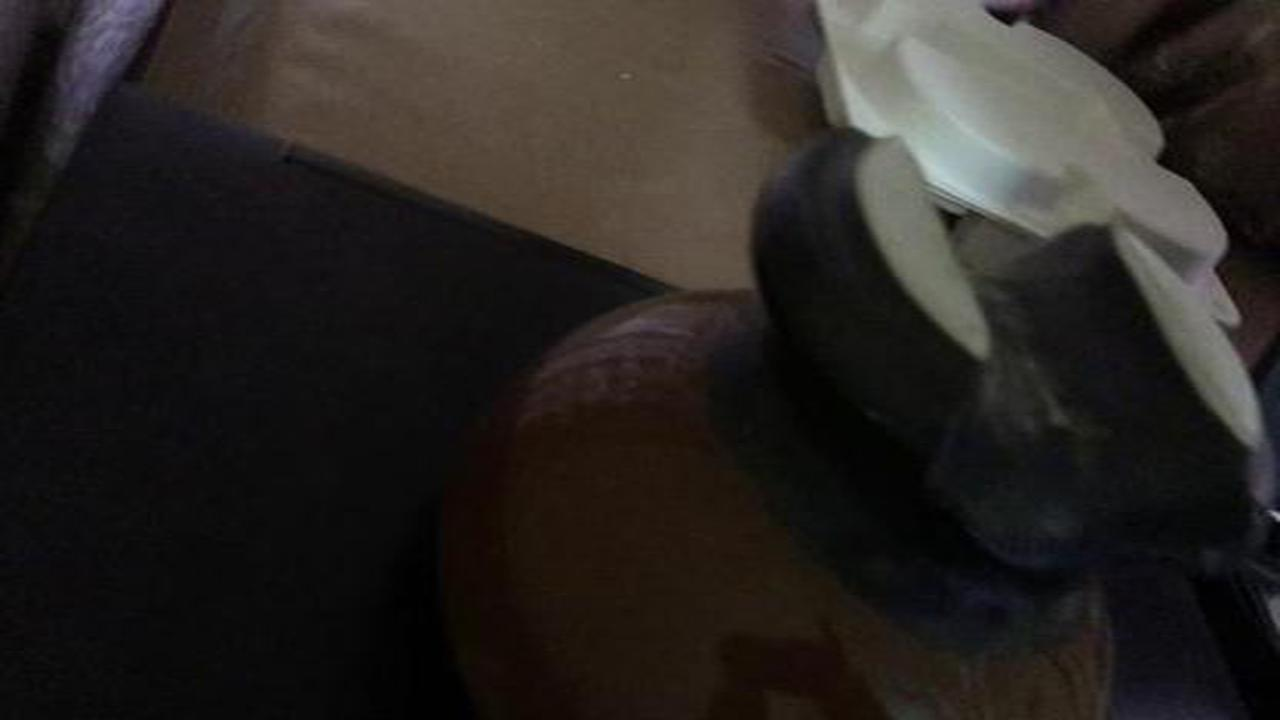insulator_pin: (412, 118, 1274, 712)
